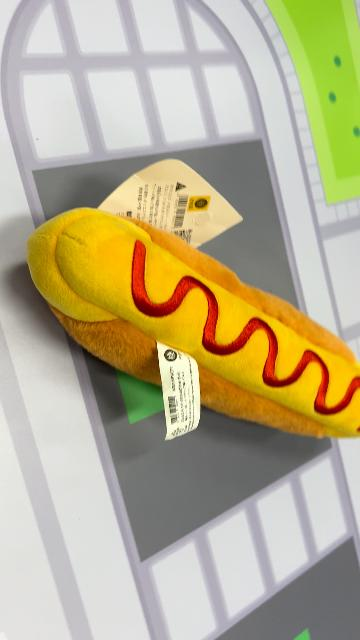hotdog: (25, 206, 358, 442)
